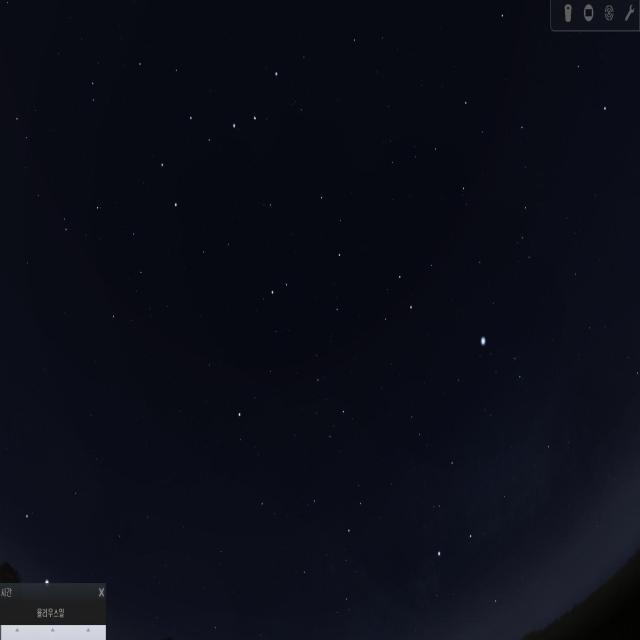cygnus: (422, 432, 564, 628)
lyra: (482, 329, 530, 397)
ursa_major: (149, 54, 284, 216)
